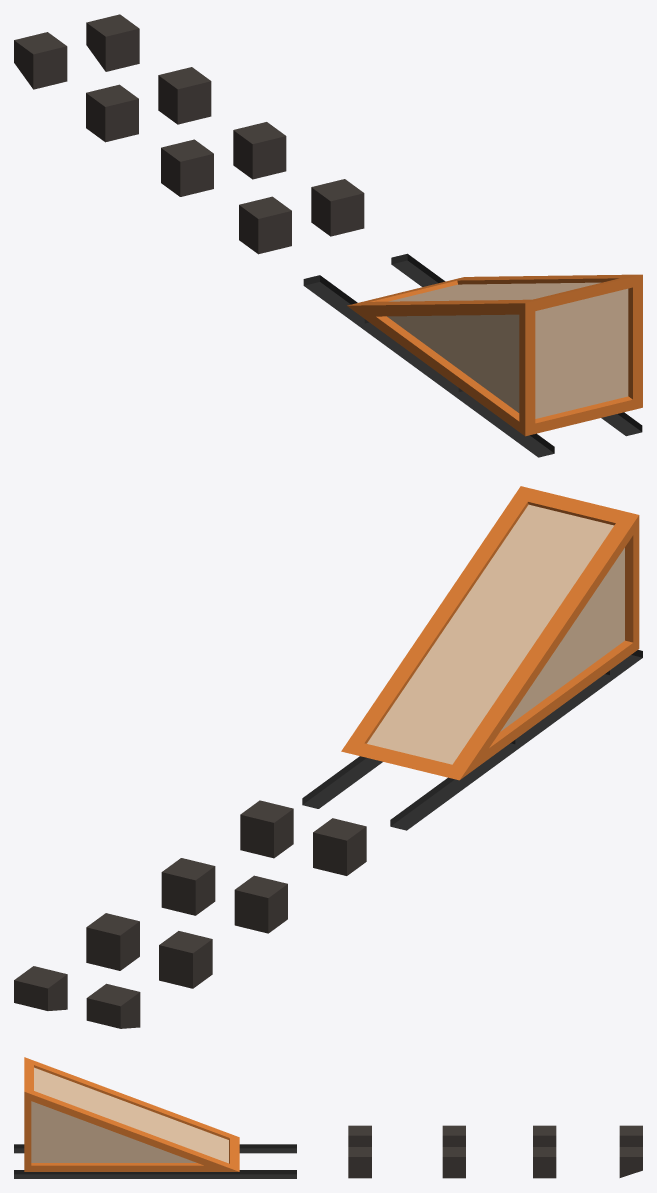
The model's file is dogSled.glb.
3 views of the same model, one above another, from view 1: azimuth 30°, elevation 25°; view 2: azimuth 150°, elevation 25°; view 3: azimuth 270°, elevation 25° (orthographic). The views are drawn at different scales.
Visible parts, largest first — view 1: Cube.001; view 2: Cube.001; view 3: Cube.001.
Part boxes in pixels (<box>): Cube.001: <box>14,14,642,457</box>; Cube.001: <box>14,486,642,1028</box>; Cube.001: <box>14,1057,642,1178</box>.
Size of the model in its own units: 0.0517 by 0.0627 by 0.3972.
